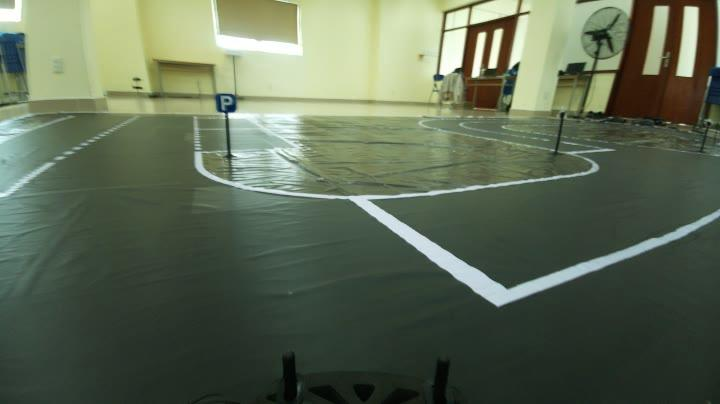parking: (210, 88, 238, 116)
